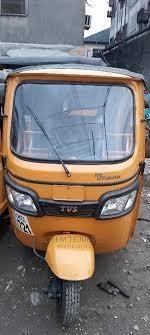keke: (0, 60, 150, 335)
